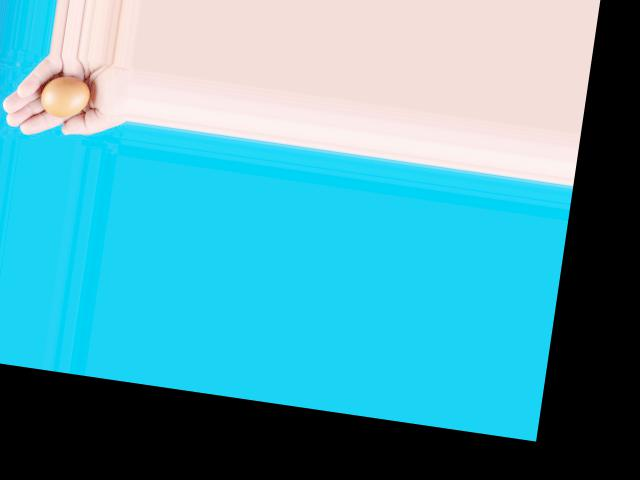egg: (37, 73, 91, 120)
